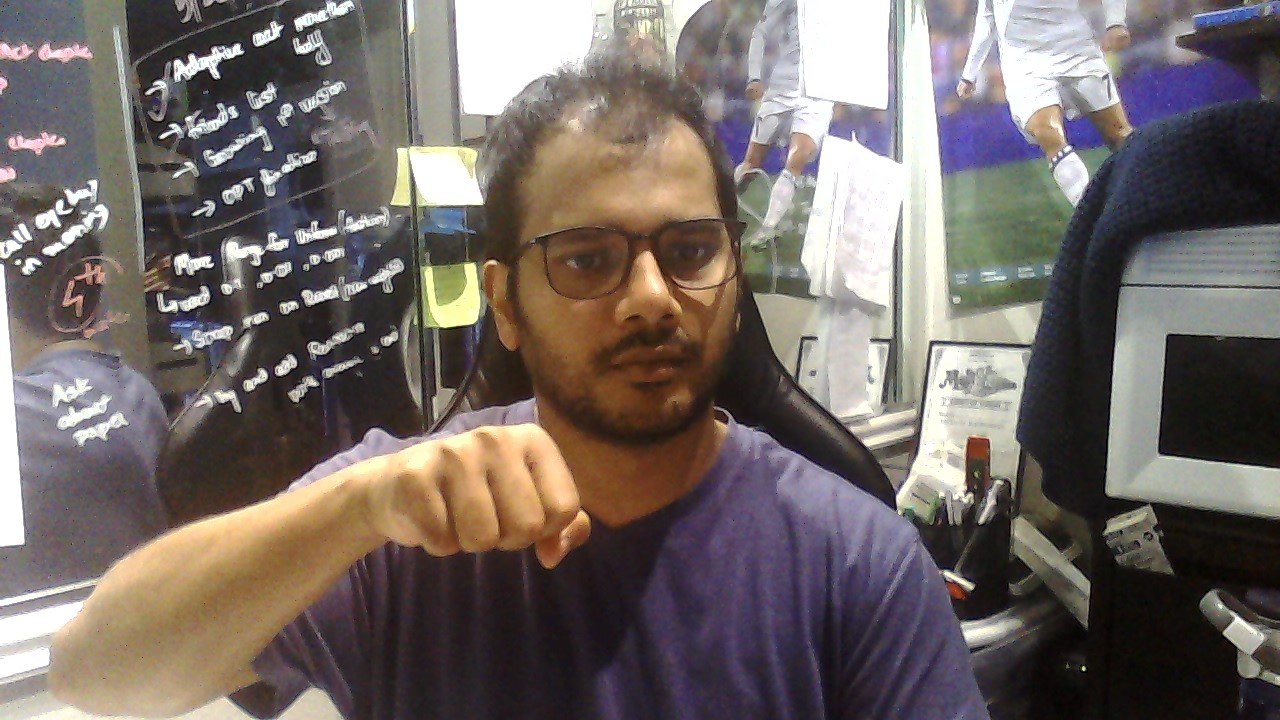Yes: (378, 424, 592, 568)
